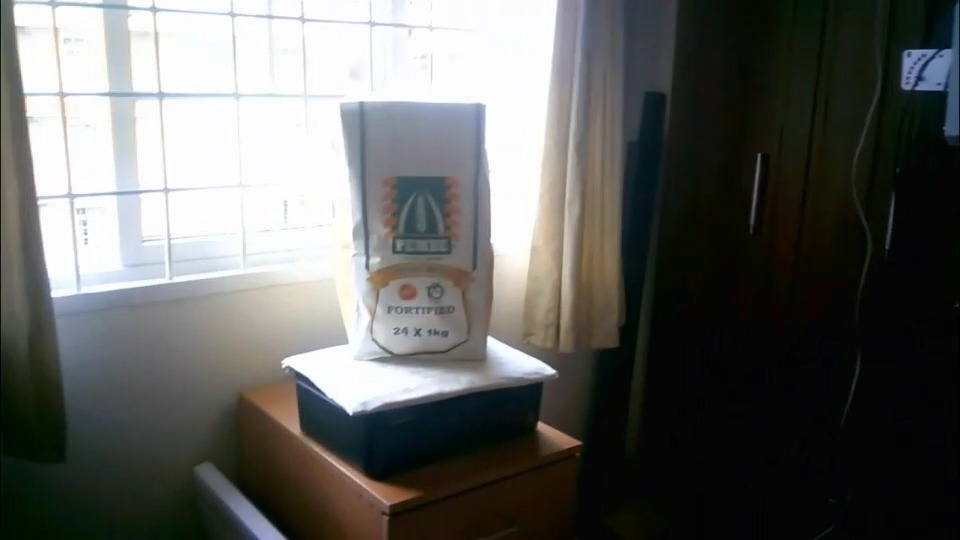maize_flour_green_label: (342, 99, 486, 359)
